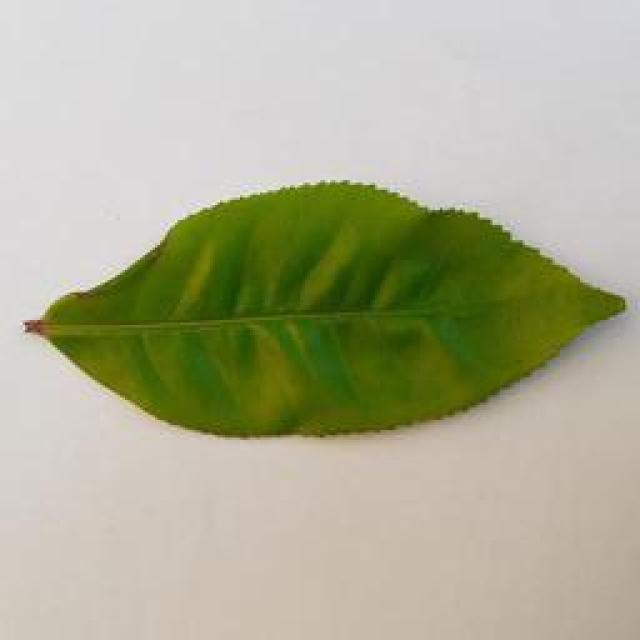Healthy: (22, 178, 640, 447)
